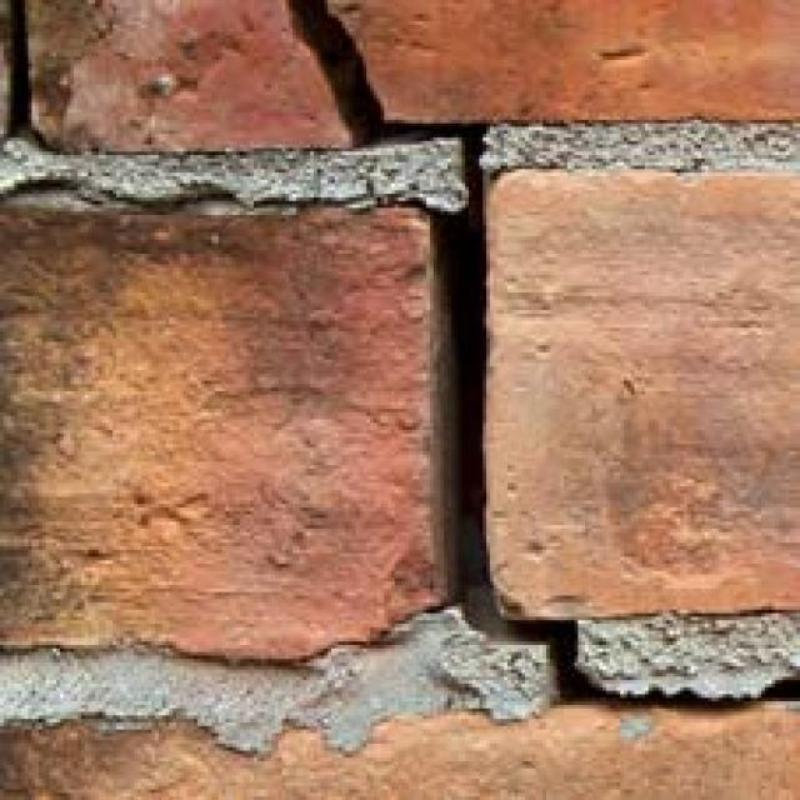pothole: (288, 0, 488, 600), (519, 622, 800, 711), (9, 0, 31, 135)
